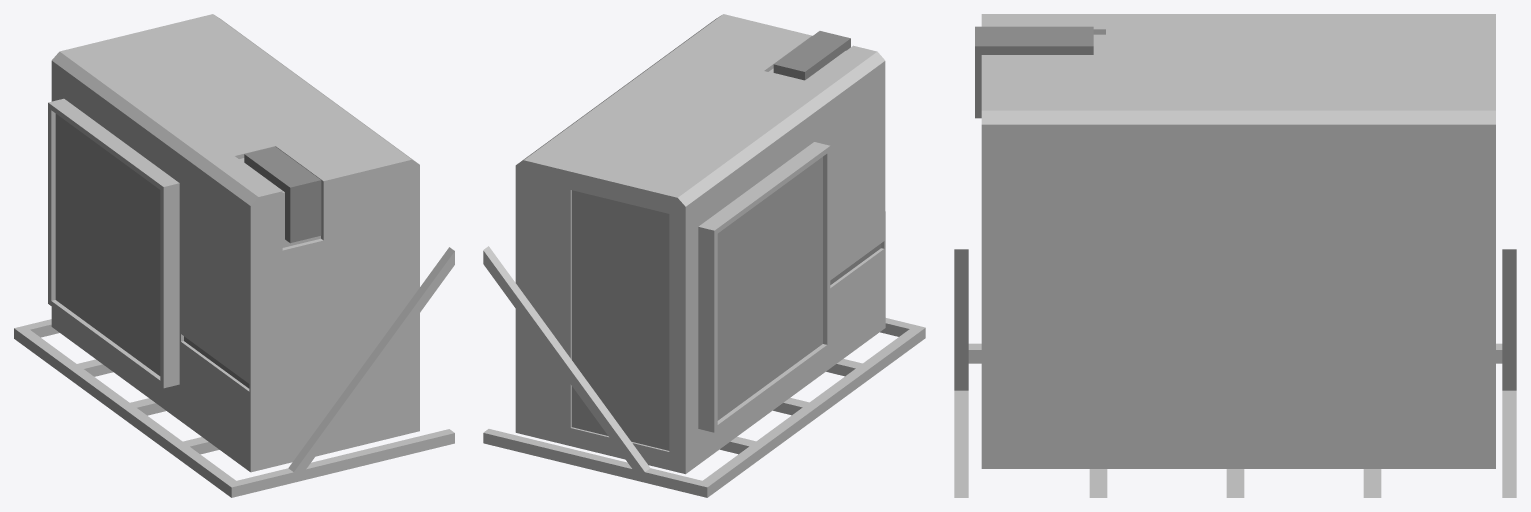
Rendered from Vent_05.FBX.
3 renders of one model, left to right at view 1: azimuth 30°, elevation 25°; view 2: azimuth 150°, elevation 25°; view 3: azimuth 270°, elevation 25°, orthographic. The views are drawn at different scales.
Visible parts, largest first — view 1: Vent_05_LOD0, Vent_05_Support_LOD0; view 2: Vent_05_LOD0, Vent_05_Support_LOD0; view 3: Vent_05_LOD0, Vent_05_Support_LOD0.
Part boxes in pixels (<box>): Vent_05_LOD0: <box>48,14,419,472</box>; Vent_05_Support_LOD0: <box>14,247,454,497</box>; Vent_05_LOD0: <box>515,14,885,474</box>; Vent_05_Support_LOD0: <box>483,246,925,497</box>; Vent_05_LOD0: <box>975,14,1495,468</box>; Vent_05_Support_LOD0: <box>954,249,1516,497</box>.
Size of what is drawn, in the model's own units: 46.48 by 57.32 by 78.41.
